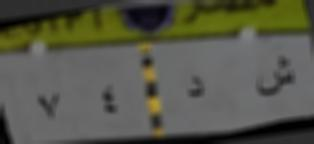4: (91, 81, 127, 120)
7: (30, 89, 68, 122)
daal: (183, 72, 210, 103)
sheen: (251, 50, 300, 106)
